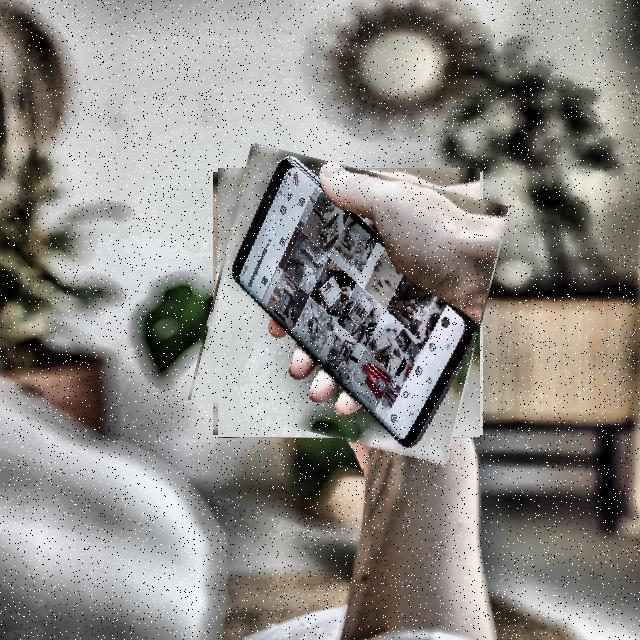Phone: (201, 156, 496, 451)
